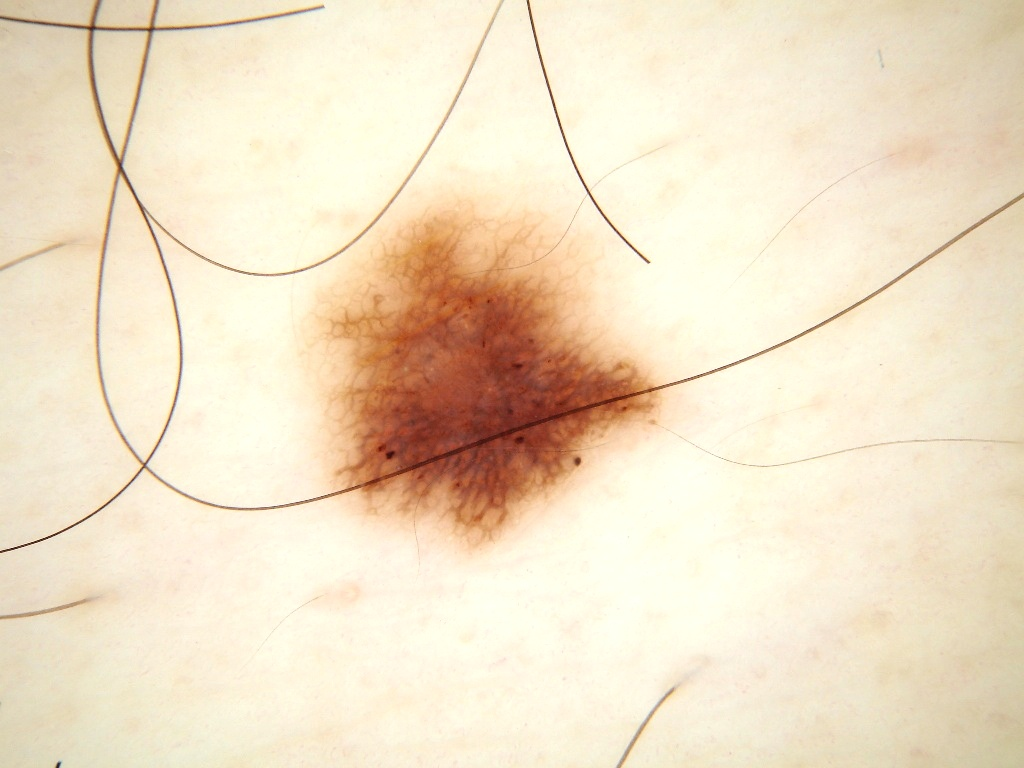Detected Lesion: (286, 194, 681, 560)
